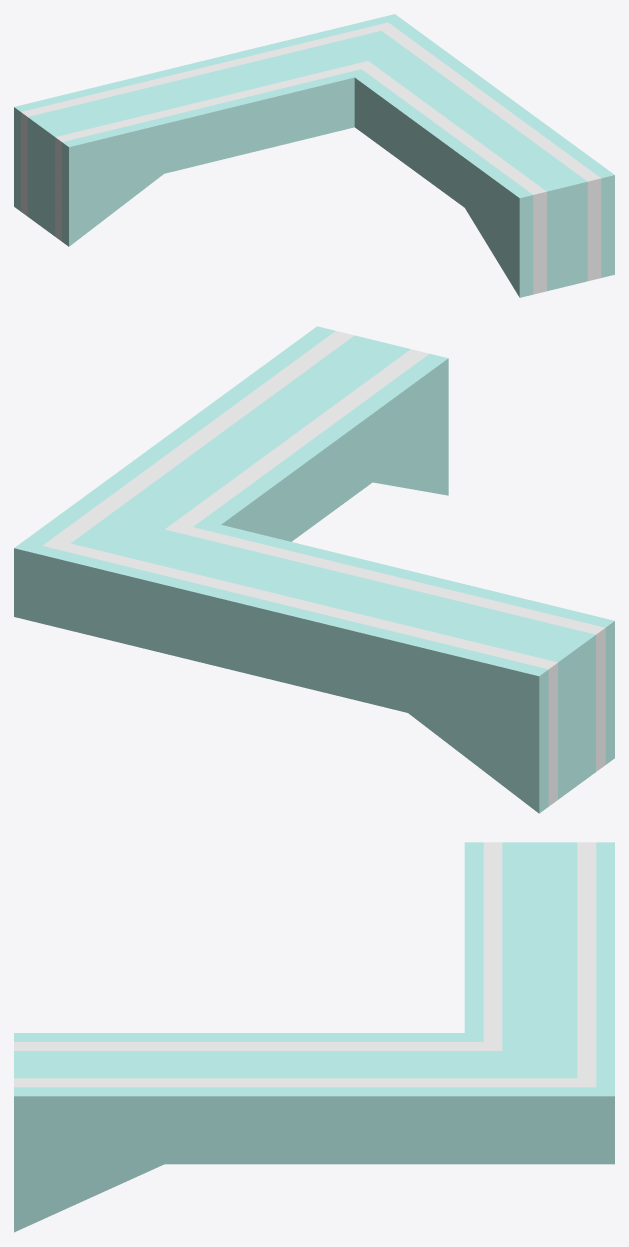
Rendered from BridgeRow2.fbx.
3 renders of one model, top to bottom at view 1: azimuth 30°, elevation 25°; view 2: azimuth 150°, elevation 25°; view 3: azimuth 270°, elevation 25°, orthographic. The views are drawn at different scales.
Visible parts, largest first — view 1: Cube; view 2: Cube; view 3: Cube.
Boxes of the visible parts, <box> form: Cube: <box>14,14,614,297</box>; Cube: <box>14,326,614,813</box>; Cube: <box>14,842,614,1232</box>.
Size of the model in its own units: 800 by 200 by 800.
